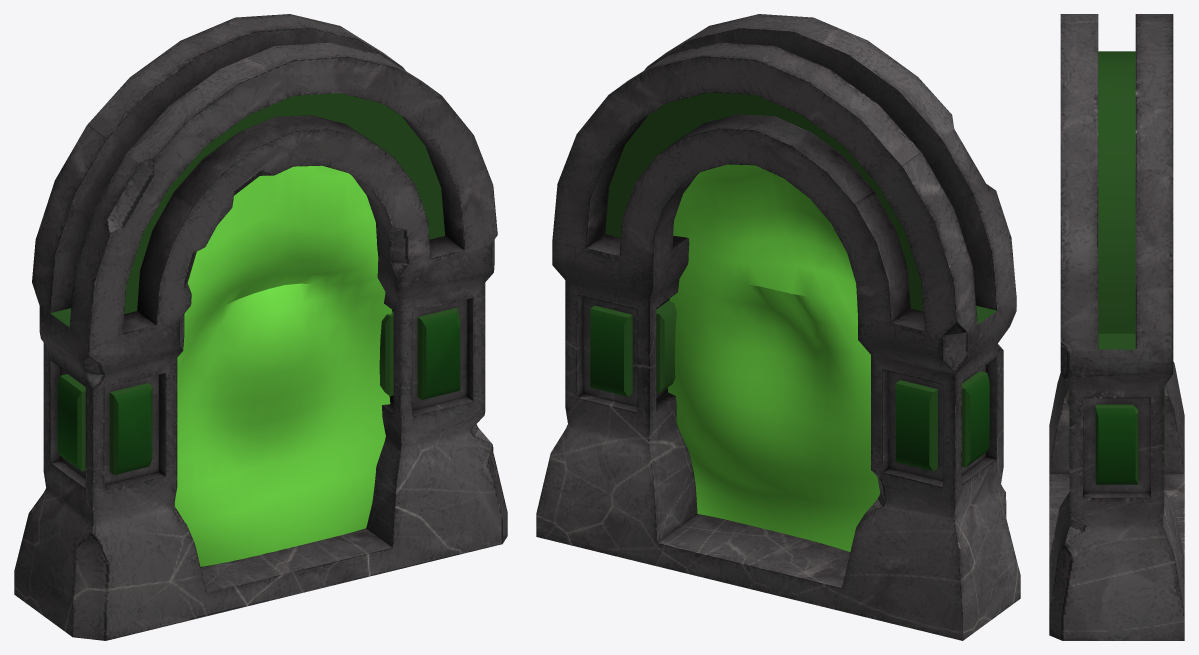
File: portal.fbx
3 views of the same model, side by side, from view 1: azimuth 30°, elevation 25°; view 2: azimuth 150°, elevation 25°; view 3: azimuth 270°, elevation 25° (orthographic). The views are drawn at different scales.
Parts seen in each view (by area): view 1: Cube; view 2: Cube; view 3: Cube.
Part boxes in pixels (<box>): Cube: <box>14,14,507,640</box>; Cube: <box>536,14,1020,640</box>; Cube: <box>1049,14,1184,640</box>.
Size of the model in its own units: 445 by 523 by 126.
Materials: 3 (3 with a texture image).
